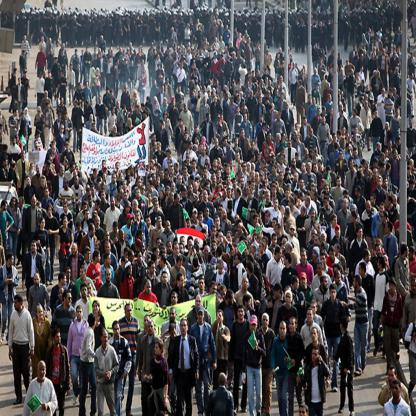face: (39, 365, 46, 381), (390, 370, 397, 385), (393, 384, 401, 397), (312, 349, 319, 361), (171, 329, 178, 341), (182, 321, 188, 335), (103, 331, 109, 345), (281, 324, 287, 337), (291, 319, 297, 332), (312, 328, 318, 341), (211, 284, 218, 295), (376, 246, 382, 258), (308, 311, 314, 323), (15, 299, 21, 311), (171, 309, 177, 321), (127, 305, 132, 319), (197, 296, 202, 310), (336, 274, 342, 285), (331, 289, 337, 300), (239, 309, 245, 320), (38, 308, 44, 319), (77, 308, 83, 319), (221, 290, 227, 301), (199, 312, 205, 323), (217, 312, 223, 323), (155, 344, 161, 355), (115, 325, 121, 336), (67, 294, 72, 307), (324, 278, 329, 290), (244, 278, 249, 290), (245, 245, 251, 255), (243, 239, 249, 249), (212, 243, 218, 253), (83, 287, 89, 297), (56, 332, 61, 344), (147, 283, 152, 295), (175, 245, 180, 257), (180, 276, 185, 288), (149, 323, 154, 335), (302, 253, 307, 264), (230, 294, 235, 305), (263, 318, 268, 329), (287, 294, 292, 305), (312, 303, 317, 314), (81, 269, 86, 280), (60, 289, 65, 300), (94, 303, 99, 314), (107, 271, 112, 282), (163, 274, 168, 285), (145, 317, 150, 328), (285, 288, 291, 297), (161, 247, 167, 256), (172, 295, 178, 304), (317, 264, 322, 274), (290, 226, 295, 236), (231, 247, 236, 257), (73, 245, 78, 255), (35, 275, 40, 285), (32, 242, 37, 252), (124, 258, 129, 268), (151, 264, 156, 274), (168, 242, 173, 252), (200, 280, 205, 290), (321, 256, 327, 264), (220, 232, 224, 244), (146, 219, 152, 227), (367, 204, 372, 213), (380, 205, 385, 214), (391, 284, 396, 293), (336, 228, 341, 237), (314, 236, 319, 245), (302, 278, 307, 287), (235, 215, 240, 224), (227, 234, 232, 243), (274, 289, 279, 298), (252, 323, 257, 332), (183, 191, 188, 200), (223, 211, 228, 220), (195, 240, 200, 249), (181, 239, 186, 248), (32, 199, 37, 208), (96, 217, 101, 226), (88, 285, 93, 294), (136, 213, 141, 222), (106, 244, 111, 253), (179, 261, 184, 270), (296, 279, 300, 290), (128, 264, 132, 275), (219, 264, 223, 275), (413, 281, 416, 295), (314, 165, 319, 173), (378, 259, 382, 269), (359, 265, 363, 275), (273, 183, 278, 191), (177, 195, 181, 205), (189, 243, 194, 251), (93, 226, 97, 236), (95, 243, 100, 251), (156, 249, 160, 259), (205, 247, 209, 257), (378, 178, 382, 187), (382, 213, 386, 222), (385, 224, 389, 233), (406, 247, 410, 256), (368, 252, 372, 261), (359, 229, 363, 238), (353, 279, 357, 288), (335, 244, 339, 253), (331, 251, 335, 260), (313, 231, 317, 240), (313, 251, 317, 260), (234, 180, 238, 189), (274, 236, 278, 245), (283, 239, 287, 248), (280, 250, 284, 259), (263, 239, 267, 248), (248, 299, 252, 308), (270, 299, 274, 308), (42, 180, 46, 189), (170, 167, 174, 176), (200, 145, 204, 154), (204, 191, 208, 200), (216, 219, 220, 228), (213, 228, 217, 237), (86, 212, 90, 221), (87, 251, 91, 260), (98, 254, 102, 263), (67, 270, 71, 279), (64, 276, 68, 285), (11, 256, 15, 265), (155, 202, 159, 211), (158, 219, 162, 228), (167, 224, 171, 233), (108, 256, 112, 265), (121, 232, 125, 241), (206, 161, 210, 170), (411, 184, 415, 192), (374, 170, 378, 178), (350, 162, 354, 170), (344, 200, 348, 208), (325, 200, 329, 208), (351, 215, 355, 223), (386, 199, 390, 207), (409, 251, 413, 259), (312, 211, 316, 219), (334, 217, 338, 225), (319, 239, 323, 247), (273, 188, 277, 196), (275, 200, 279, 208), (286, 191, 290, 199), (248, 191, 252, 199), (243, 164, 247, 172), (230, 160, 234, 168), (241, 179, 245, 187), (235, 190, 239, 198), (228, 190, 232, 198), (227, 167, 231, 175), (224, 189, 228, 197), (301, 209, 305, 217), (273, 220, 277, 228), (275, 226, 279, 234), (251, 213, 255, 221), (251, 246, 255, 254), (236, 256, 240, 264), (248, 234, 252, 242), (246, 266, 250, 274), (113, 175, 117, 183), (46, 190, 50, 198), (166, 172, 170, 180), (172, 184, 176, 192), (160, 191, 164, 199), (142, 186, 146, 194), (205, 170, 209, 178), (207, 185, 211, 193), (179, 177, 183, 185), (196, 179, 200, 187), (200, 215, 204, 223), (206, 208, 210, 216), (38, 205, 42, 213), (12, 199, 16, 207), (102, 193, 106, 201), (84, 205, 88, 213), (42, 220, 46, 228), (64, 219, 68, 227), (102, 183, 106, 191), (119, 185, 123, 193), (106, 233, 110, 241), (126, 252, 130, 260), (131, 253, 135, 261), (140, 233, 144, 241), (158, 240, 162, 248), (284, 256, 287, 266), (239, 224, 242, 234), (189, 186, 194, 192), (136, 247, 141, 253), (160, 257, 163, 267), (378, 143, 382, 150), (355, 151, 359, 158), (337, 179, 341, 186), (308, 165, 312, 172), (322, 235, 326, 242), (276, 181, 280, 188), (263, 195, 267, 202), (245, 188, 249, 195), (239, 175, 243, 182), (309, 159, 313, 166), (153, 175, 157, 182), (167, 152, 171, 159), (138, 180, 142, 187), (193, 162, 197, 169), (214, 160, 218, 167), (201, 194, 205, 201), (27, 178, 31, 185), (65, 205, 69, 212), (127, 206, 131, 213), (135, 203, 139, 210), (114, 226, 118, 233), (312, 191, 315, 200), (267, 193, 270, 202), (266, 213, 269, 222), (77, 164, 80, 173), (64, 157, 67, 166), (62, 167, 65, 176), (37, 166, 40, 175), (219, 160, 222, 169), (220, 207, 223, 216), (129, 217, 132, 226), (139, 253, 142, 262), (330, 69, 333, 77), (311, 129, 314, 137), (385, 180, 388, 188), (360, 168, 363, 176), (371, 196, 374, 204), (349, 144, 352, 152), (306, 149, 309, 157), (326, 186, 329, 194), (301, 180, 304, 188), (245, 114, 248, 122), (293, 160, 297, 166), (295, 174, 298, 182), (281, 173, 284, 181), (289, 200, 292, 208), (256, 174, 259, 182), (237, 153, 240, 161), (235, 140, 239, 146), (260, 243, 263, 251), (91, 115, 94, 123), (154, 136, 157, 144), (150, 162, 153, 170), (157, 177, 160, 185), (127, 172, 131, 178), (116, 174, 120, 180), (62, 125, 65, 133), (92, 187, 95, 195), (76, 177, 79, 185), (50, 157, 53, 165), (65, 180, 68, 188), (171, 193, 174, 201), (148, 182, 151, 190), (149, 194, 152, 202), (137, 190, 140, 198), (123, 183, 127, 189), (116, 198, 119, 206), (125, 193, 128, 201), (216, 140, 219, 148), (199, 167, 202, 175), (213, 178, 217, 184), (213, 175, 217, 181), (185, 170, 188, 178), (195, 184, 198, 192), (187, 221, 190, 229), (23, 151, 26, 159), (32, 164, 35, 172), (5, 204, 8, 212), (90, 197, 93, 205), (112, 199, 115, 207), (395, 198, 398, 205), (365, 161, 368, 168), (371, 171, 374, 178), (302, 165, 305, 172), (323, 194, 326, 201), (302, 194, 305, 201), (305, 194, 308, 201), (312, 183, 315, 190), (289, 141, 292, 148), (252, 143, 255, 150), (252, 183, 255, 190), (239, 165, 242, 172), (232, 189, 235, 196), (286, 246, 289, 253), (256, 216, 259, 223), (247, 257, 250, 264), (129, 177, 132, 184), (103, 162, 106, 169), (95, 172, 98, 179), (74, 171, 77, 178), (49, 165, 52, 172), (161, 171, 164, 178), (121, 191, 124, 198), (224, 166, 227, 173), (194, 212, 197, 219), (96, 202, 99, 209), (375, 162, 379, 167), (194, 147, 198, 152), (191, 179, 195, 184), (78, 227, 82, 232), (38, 109, 41, 115), (16, 110, 19, 116), (22, 114, 25, 120), (1, 126, 4, 132), (185, 106, 188, 112), (213, 93, 216, 99), (165, 100, 168, 106), (180, 121, 183, 127), (183, 126, 186, 132), (196, 128, 199, 134), (185, 134, 188, 140), (221, 115, 224, 121), (154, 39, 157, 45), (313, 98, 316, 104), (318, 109, 321, 115), (309, 96, 312, 102), (281, 77, 284, 83), (273, 105, 276, 111), (304, 120, 307, 126), (296, 124, 299, 130), (357, 74, 360, 80), (353, 110, 356, 116), (344, 128, 347, 134), (331, 109, 334, 115), (324, 108, 327, 114), (376, 111, 379, 117), (410, 122, 413, 128), (406, 148, 409, 154), (395, 151, 398, 157), (389, 143, 392, 149), (386, 152, 389, 158), (384, 166, 387, 172), (355, 135, 358, 141), (367, 170, 370, 176), (356, 189, 359, 195), (334, 135, 337, 141), (340, 153, 343, 159), (313, 150, 316, 156), (345, 195, 348, 201), (322, 215, 325, 221), (322, 246, 325, 252), (261, 117, 264, 123), (269, 134, 272, 140), (284, 134, 287, 140), (283, 150, 286, 156), (296, 156, 299, 162), (292, 167, 295, 173), (280, 158, 283, 164), (273, 167, 276, 173), (294, 194, 297, 200), (242, 131, 245, 137), (258, 155, 261, 161), (261, 163, 264, 169), (265, 169, 268, 175), (264, 183, 267, 189), (253, 157, 256, 163), (253, 172, 256, 178), (248, 164, 251, 170), (225, 140, 228, 146), (227, 146, 230, 152), (227, 178, 230, 184), (224, 184, 227, 190), (283, 208, 286, 214), (230, 207, 233, 213), (259, 231, 262, 237), (315, 149, 318, 155), (129, 120, 132, 126), (94, 125, 97, 131), (155, 144, 158, 150), (158, 146, 161, 152), (155, 159, 158, 165), (154, 168, 157, 174), (156, 166, 159, 172), (117, 164, 120, 170), (105, 170, 108, 176), (67, 144, 70, 150), (53, 147, 56, 153), (160, 123, 163, 129), (169, 161, 172, 167), (175, 165, 178, 171), (171, 175, 174, 181), (167, 189, 170, 195), (191, 143, 194, 149), (187, 152, 190, 158), (188, 159, 191, 165), (218, 172, 221, 178), (36, 143, 39, 149), (5, 160, 8, 166), (49, 209, 52, 215), (89, 192, 92, 198), (94, 214, 97, 220), (116, 238, 119, 244), (204, 148, 207, 154), (414, 169, 416, 177), (267, 179, 269, 187), (73, 165, 75, 173), (67, 162, 69, 170), (61, 168, 63, 176), (160, 73, 162, 81), (22, 200, 24, 208), (61, 72, 64, 77), (46, 93, 49, 98), (62, 98, 65, 103), (42, 46, 45, 51), (80, 84, 83, 89), (87, 50, 90, 55), (86, 83, 89, 88), (109, 58, 112, 63), (154, 81, 157, 86), (199, 93, 202, 98), (173, 102, 176, 107), (218, 116, 221, 121), (182, 95, 185, 100), (266, 78, 269, 83), (260, 99, 263, 104), (277, 82, 280, 87), (281, 95, 284, 100), (339, 55, 342, 60), (366, 102, 369, 107), (356, 129, 359, 134), (340, 112, 343, 117), (324, 118, 327, 123), (398, 49, 401, 54), (394, 50, 397, 55), (383, 90, 386, 95), (375, 85, 378, 90), (387, 124, 390, 129), (411, 162, 414, 167), (408, 170, 411, 175), (398, 141, 401, 146), (319, 163, 322, 168), (306, 201, 309, 206), (391, 205, 394, 210), (237, 108, 240, 113), (278, 135, 281, 140), (288, 186, 291, 191), (265, 142, 268, 147), (270, 156, 273, 161), (260, 176, 263, 181), (253, 166, 256, 171), (283, 252, 286, 257), (99, 98, 102, 103), (115, 127, 118, 132), (104, 175, 107, 180), (59, 116, 62, 121), (38, 133, 41, 138), (143, 73, 146, 78), (17, 138, 20, 143), (172, 28, 175, 33), (322, 183, 324, 190), (341, 323, 343, 330), (63, 44, 66, 48), (25, 72, 27, 78), (19, 80, 22, 84), (48, 105, 51, 109), (75, 102, 78, 106), (128, 49, 130, 55), (167, 79, 170, 83), (143, 107, 146, 111), (203, 45, 206, 49), (205, 97, 208, 101), (193, 94, 196, 98), (179, 87, 182, 91), (166, 113, 168, 119), (215, 39, 218, 43), (257, 72, 260, 76), (243, 101, 246, 105), (304, 66, 306, 72), (300, 81, 303, 85), (315, 70, 318, 74), (315, 84, 317, 90), (276, 90, 278, 96), (360, 46, 363, 50), (347, 62, 350, 66), (361, 82, 364, 86), (366, 95, 368, 101), (340, 95, 342, 101), (341, 93, 344, 97), (392, 32, 394, 38), (413, 73, 415, 79), (397, 109, 399, 115), (346, 133, 348, 139), (351, 142, 354, 146), (308, 155, 310, 161), (387, 56, 389, 62), (389, 167, 391, 173), (318, 225, 320, 231), (294, 134, 296, 140), (278, 168, 280, 174), (293, 206, 295, 212), (297, 137, 299, 143), (132, 109, 134, 115), (65, 115, 68, 119), (14, 140, 16, 146), (51, 50, 53, 55), (56, 59, 58, 64), (49, 74, 51, 79), (45, 72, 47, 77), (41, 73, 43, 78), (76, 52, 78, 57), (51, 103, 53, 108), (58, 99, 60, 104), (98, 70, 100, 75), (101, 53, 103, 58), (103, 52, 105, 57), (110, 51, 112, 56), (124, 52, 126, 57), (118, 60, 120, 65), (125, 60, 127, 65), (158, 56, 160, 61), (163, 87, 165, 92), (201, 49, 203, 54), (182, 62, 184, 67), (205, 88, 207, 93), (217, 81, 219, 86), (214, 80, 216, 85), (214, 46, 216, 51), (180, 63, 182, 68), (208, 116, 210, 121), (167, 40, 169, 45), (270, 81, 272, 86), (269, 93, 271, 98), (252, 92, 254, 97), (235, 90, 237, 95), (283, 64, 285, 69), (291, 56, 293, 61), (275, 113, 277, 118), (278, 113, 280, 118), (363, 35, 365, 40), (357, 53, 359, 58), (365, 50, 367, 55), (362, 67, 364, 72), (352, 71, 354, 76), (363, 98, 365, 103), (341, 105, 343, 110), (330, 97, 332, 102), (387, 47, 389, 52), (379, 50, 381, 55), (375, 47, 377, 52), (378, 73, 380, 78), (408, 157, 410, 162), (384, 155, 386, 160), (337, 133, 339, 138), (288, 174, 290, 179), (274, 157, 276, 162), (229, 176, 231, 181), (126, 86, 128, 91), (135, 93, 137, 98), (136, 107, 138, 112), (118, 102, 120, 107), (113, 109, 115, 114), (144, 113, 146, 118), (92, 100, 94, 105), (196, 138, 198, 143), (7, 147, 9, 152), (155, 100, 158, 103), (147, 100, 150, 103), (198, 57, 201, 60), (239, 97, 242, 100), (341, 71, 344, 74), (42, 38, 44, 42), (24, 52, 26, 56), (26, 110, 28, 114), (71, 66, 73, 70), (83, 52, 85, 56), (80, 102, 82, 106), (102, 38, 104, 42), (96, 57, 98, 61), (118, 46, 120, 50), (127, 55, 129, 59), (132, 51, 134, 55), (155, 51, 157, 55), (169, 48, 171, 52), (159, 65, 161, 69), (208, 44, 210, 48), (206, 39, 208, 43), (185, 50, 187, 54), (175, 46, 177, 50), (194, 64, 196, 68), (209, 93, 211, 97), (215, 55, 217, 59), (226, 47, 228, 51), (193, 54, 195, 58), (186, 57, 188, 61), (180, 55, 182, 59), (189, 78, 191, 82), (232, 43, 234, 47), (215, 21, 217, 25), (191, 21, 193, 25), (208, 10, 210, 14), (159, 26, 161, 30), (240, 35, 242, 39), (246, 31, 248, 35), (267, 50, 269, 54), (253, 73, 255, 77), (262, 81, 264, 85), (260, 90, 262, 94), (250, 78, 252, 82), (248, 82, 250, 86), (225, 87, 227, 91), (303, 70, 305, 74), (321, 59, 323, 63), (268, 101, 270, 105), (332, 51, 334, 55), (354, 47, 356, 51), (362, 54, 364, 58), (328, 84, 330, 88), (399, 28, 401, 32), (412, 54, 414, 58), (384, 50, 386, 54), (368, 87, 370, 91), (394, 90, 396, 94), (390, 91, 392, 95), (376, 71, 378, 75), (349, 138, 351, 142), (357, 165, 359, 169), (228, 57, 230, 61), (207, 71, 209, 75), (228, 95, 230, 99), (241, 94, 243, 98), (111, 92, 113, 96), (107, 90, 109, 94), (228, 131, 230, 135), (25, 37, 27, 40), (50, 40, 52, 43), (62, 52, 64, 55), (95, 50, 97, 53), (100, 50, 102, 53), (139, 49, 141, 52), (142, 48, 144, 51), (132, 62, 134, 65), (169, 53, 171, 56), (197, 45, 199, 48), (189, 49, 191, 52), (189, 43, 191, 46), (180, 50, 182, 53), (177, 59, 179, 62), (221, 38, 223, 41), (233, 54, 235, 57), (199, 28, 201, 31), (198, 20, 200, 23), (189, 25, 191, 28), (236, 29, 238, 32), (243, 37, 245, 40), (249, 39, 251, 42), (238, 53, 240, 56), (266, 71, 268, 74), (234, 84, 236, 87), (280, 49, 282, 52), (288, 50, 290, 53), (339, 93, 341, 96), (381, 29, 383, 32), (377, 37, 379, 40), (391, 50, 393, 53), (373, 55, 375, 58), (330, 139, 332, 142), (223, 60, 225, 63), (264, 126, 266, 129), (86, 100, 87, 106), (1, 110, 2, 115), (112, 48, 113, 53), (121, 48, 122, 53), (316, 44, 317, 49), (324, 51, 325, 56), (415, 147, 416, 152), (338, 145, 339, 150), (229, 138, 230, 143), (125, 107, 126, 112), (143, 60, 144, 64), (160, 48, 161, 52), (196, 48, 197, 52), (176, 53, 178, 55), (196, 78, 197, 82), (162, 40, 163, 44), (255, 85, 256, 89), (240, 79, 241, 83), (282, 85, 283, 89), (287, 104, 288, 108), (370, 28, 371, 32), (397, 69, 398, 73), (139, 107, 140, 111), (16, 71, 17, 74), (7, 127, 8, 130), (136, 51, 137, 54), (152, 50, 153, 53), (208, 53, 209, 56), (182, 45, 183, 48), (222, 56, 223, 59), (222, 49, 223, 52), (220, 51, 221, 54), (196, 83, 197, 86), (196, 93, 197, 96), (227, 26, 228, 29), (216, 26, 217, 29), (248, 43, 249, 46), (258, 44, 259, 47), (251, 70, 252, 73), (232, 99, 233, 102), (242, 88, 243, 91), (279, 56, 280, 59), (294, 64, 295, 67), (297, 64, 298, 67), (361, 95, 362, 98)
